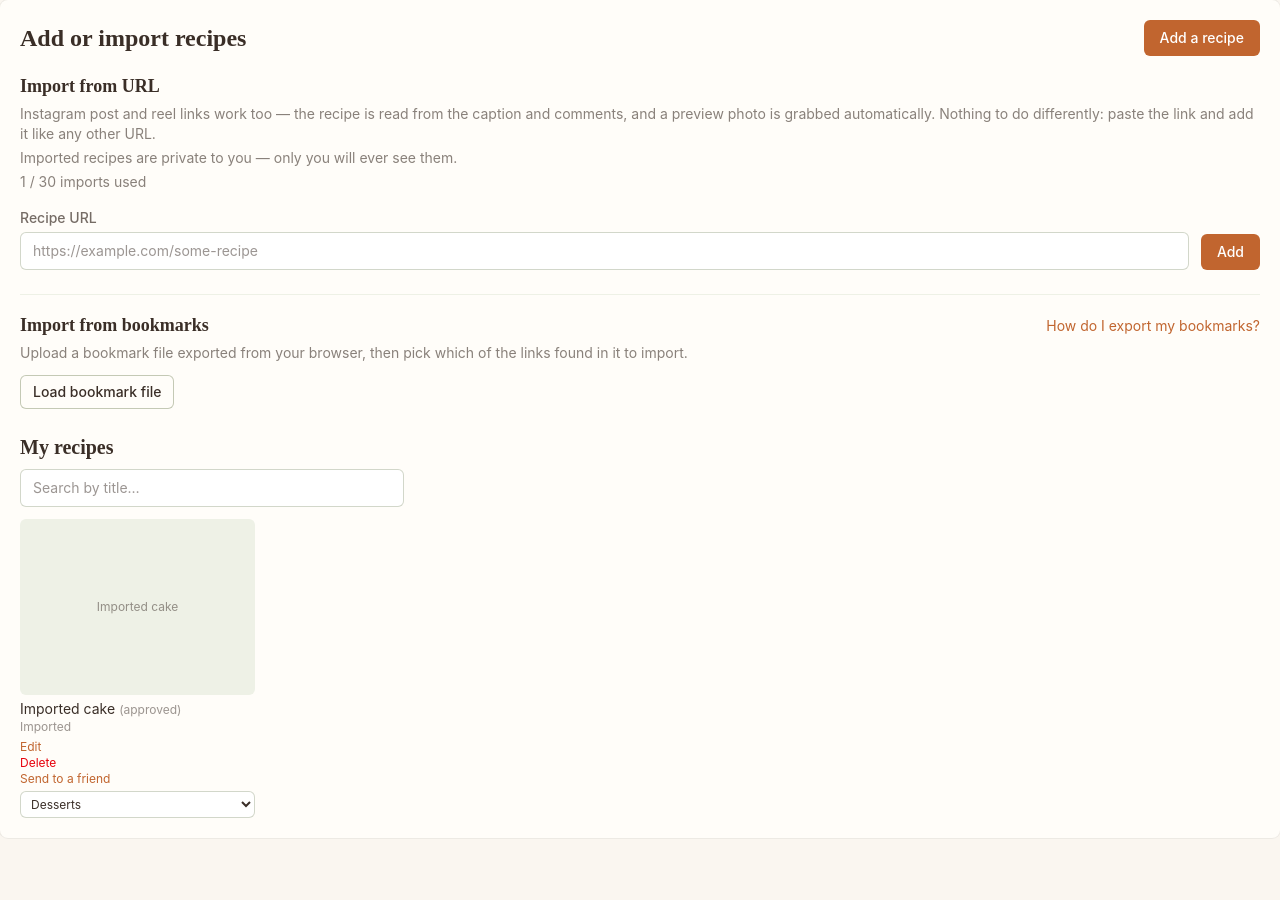
it: ImportPage › asks for confirmation, then deletes an owned recipe once confirmed
What coordinates should you click on to do the following:
click the button "Delete"
I would click on:
 (38, 763)
Its box is [20,755,56,771].
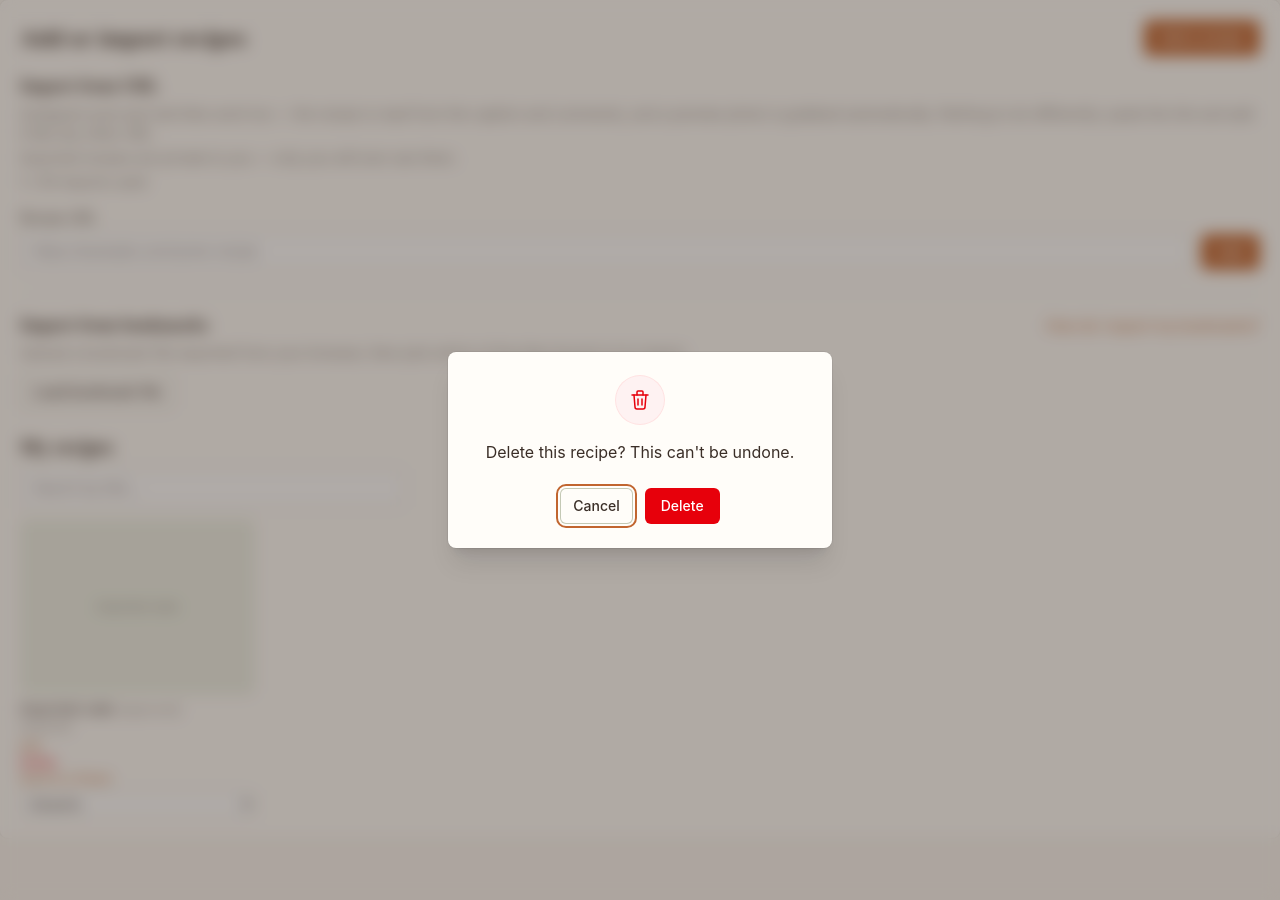
What coordinates should you click on to do the following:
click the button "Delete"
I would click on:
 (682, 506)
Its box is [645,488,720,524].
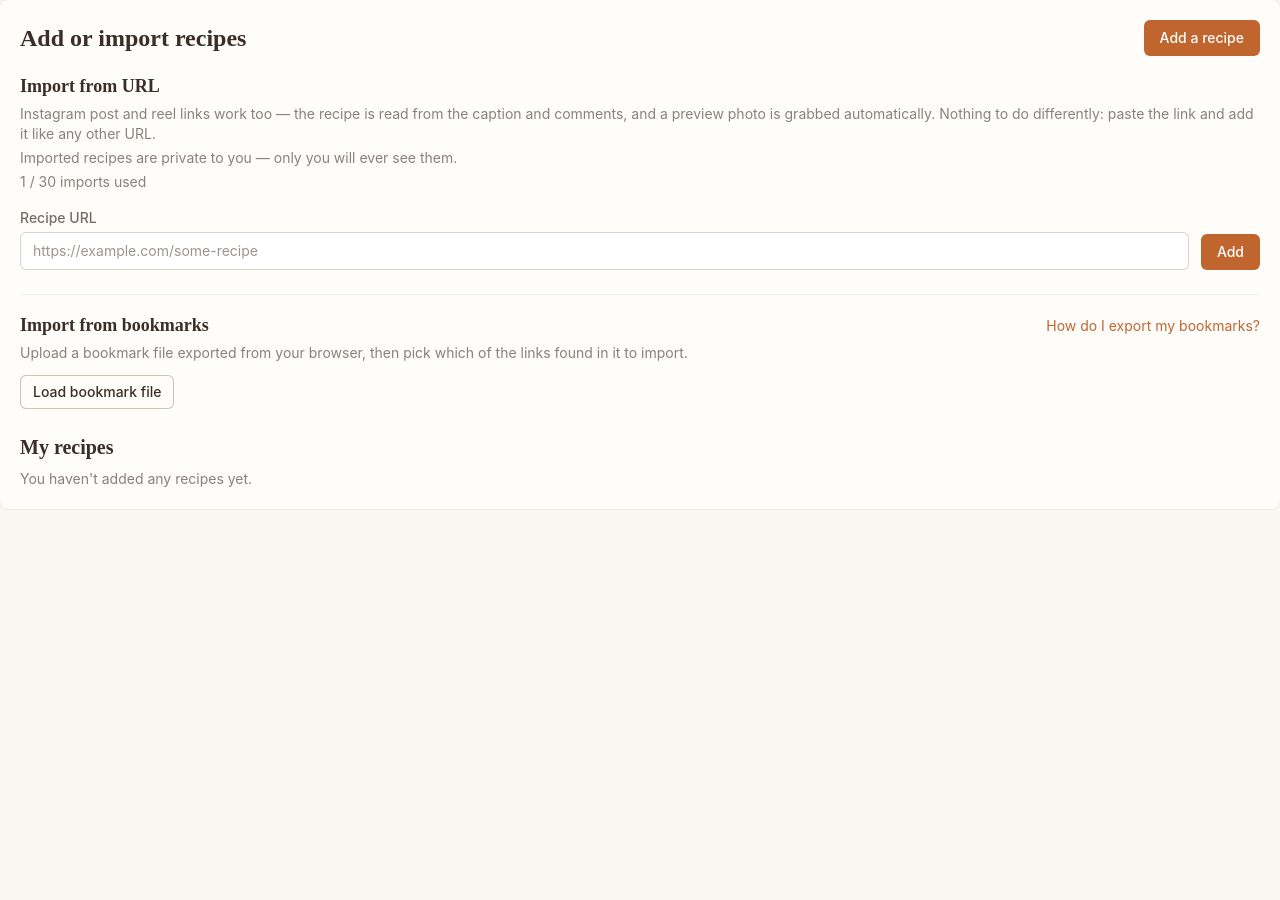
Check: the link "Imported cake" is gone
